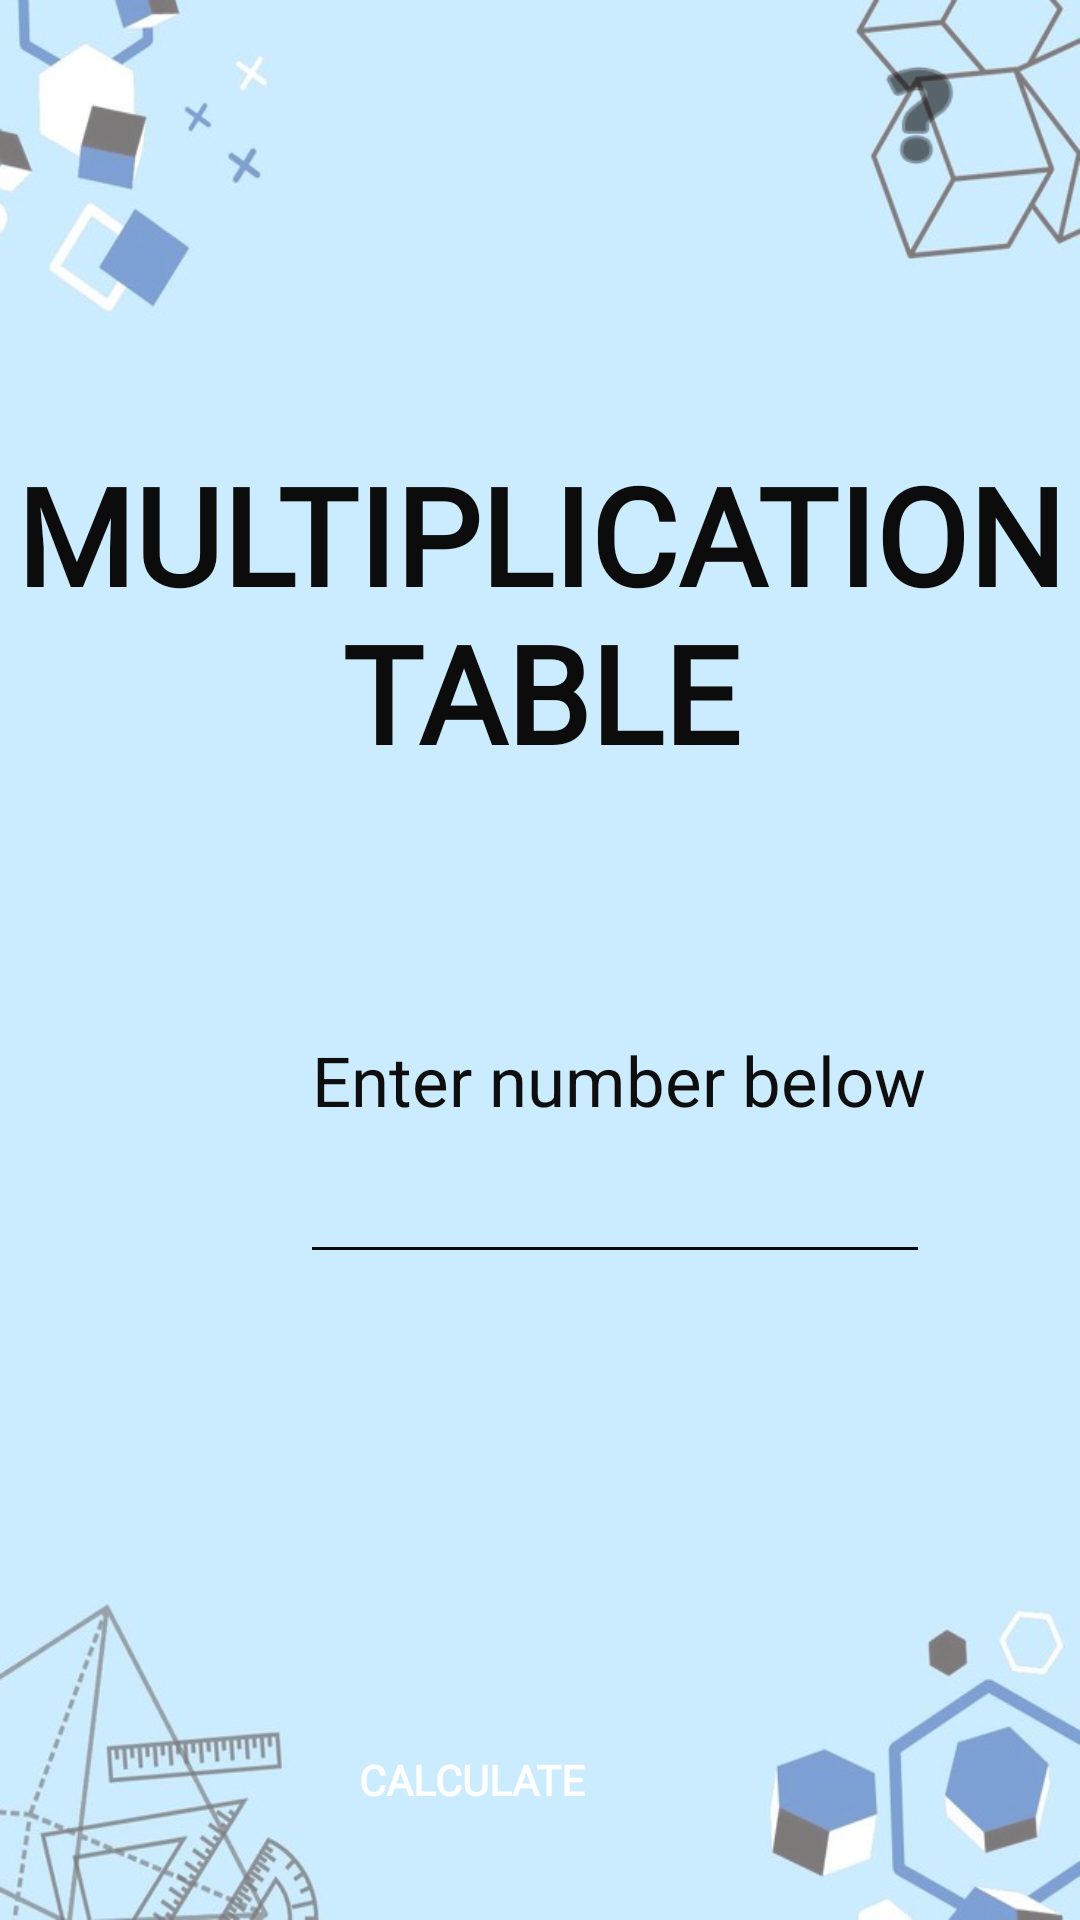

Icon bounding boxes for this 1080w x 1920h phone screenshot, format (x1, y1, x2, y2):
help: (869, 48, 996, 183)
